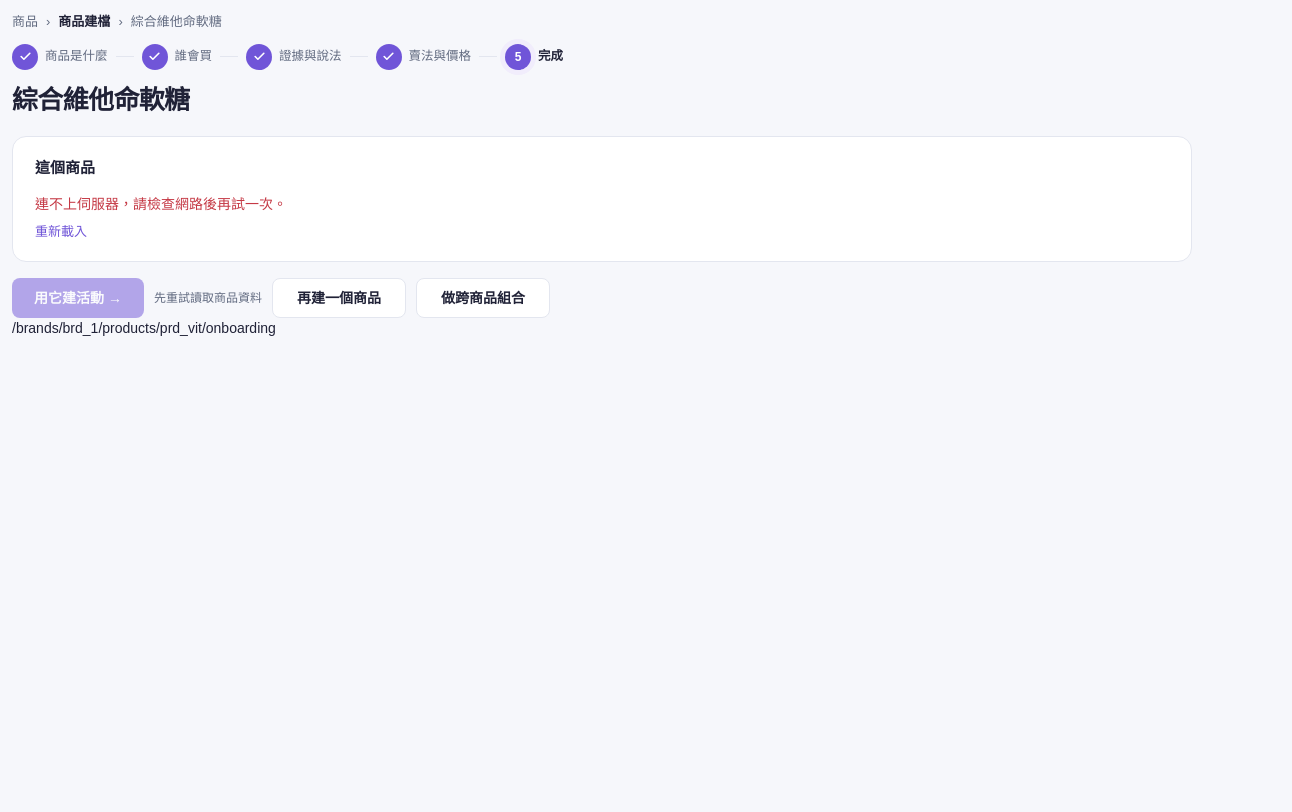
ProductOnboarding › 建好的商品沒帶 step 打開第 5 步；?step=1 回到第 1 步，已確認的值沒有標籤
Click the button named "回到商品是什麼".
click(25, 56)  # box [12,44,38,70]
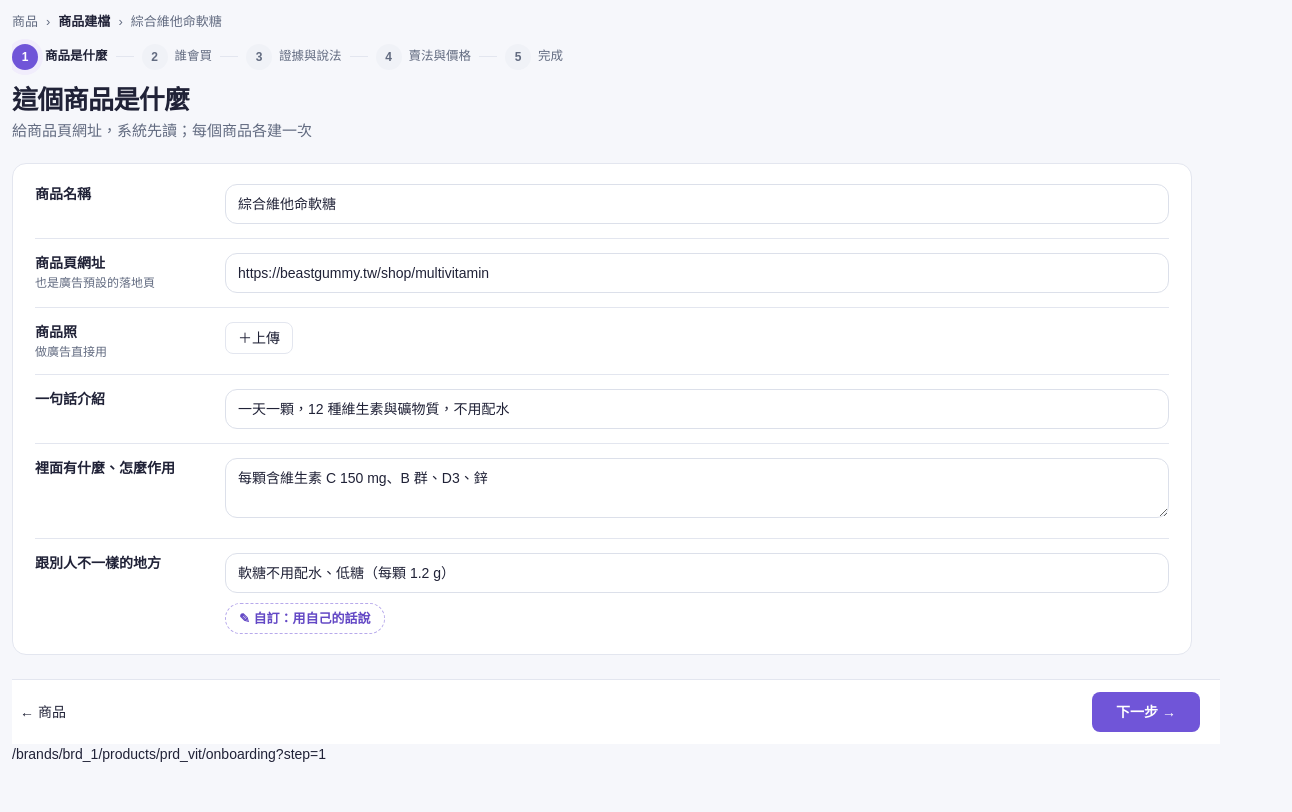
Expected: the field labelled "一句話介紹" holds "一天一顆，12 種維生素與礦物質，不用配水", [225,388,1169,428]
